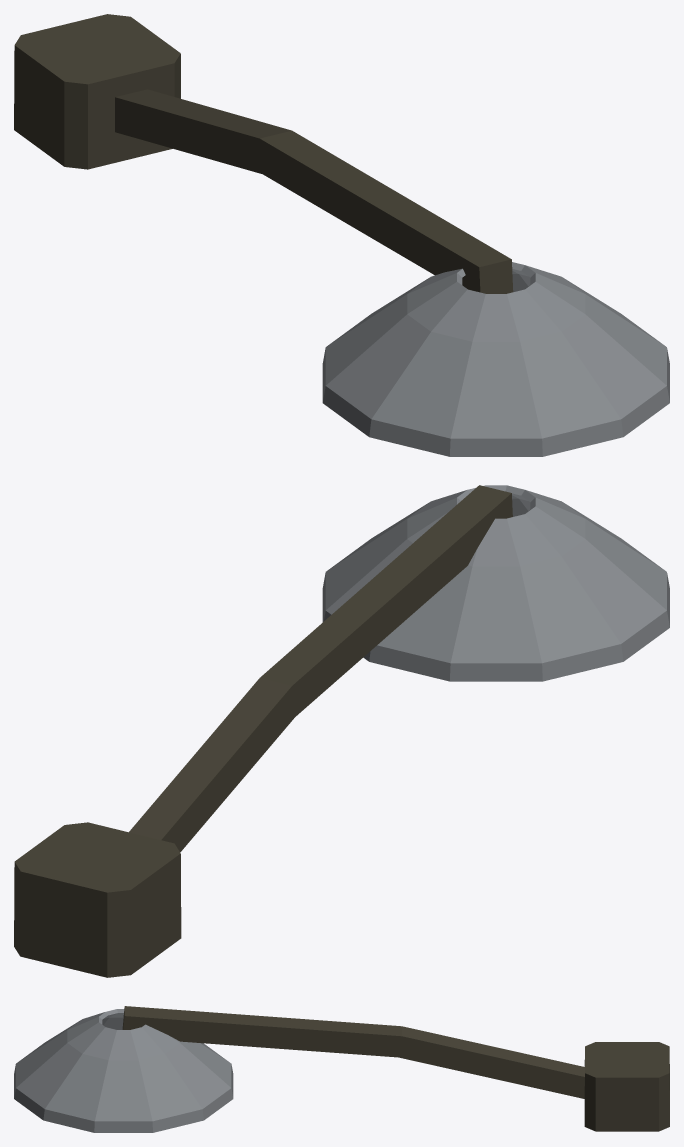
Rendered from SM_Street_StreetLamp_01.fbx.
3 renders of one model, top to bottom at view 1: azimuth 30°, elevation 25°; view 2: azimuth 150°, elevation 25°; view 3: azimuth 270°, elevation 25°, orthographic. The views are drawn at different scales.
Visible parts, largest first — view 1: SM_Street_StreetLamp_01; view 2: SM_Street_StreetLamp_01; view 3: SM_Street_StreetLamp_01.
Boxes of the visible parts, bbox=[...] form: SM_Street_StreetLamp_01: bbox=[14, 14, 669, 456]; SM_Street_StreetLamp_01: bbox=[14, 485, 669, 977]; SM_Street_StreetLamp_01: bbox=[14, 1006, 669, 1132].
Size of the model in its own units: 0.4443 by 0.2289 by 1.33.
Materials: 1 (1 with a texture image).
